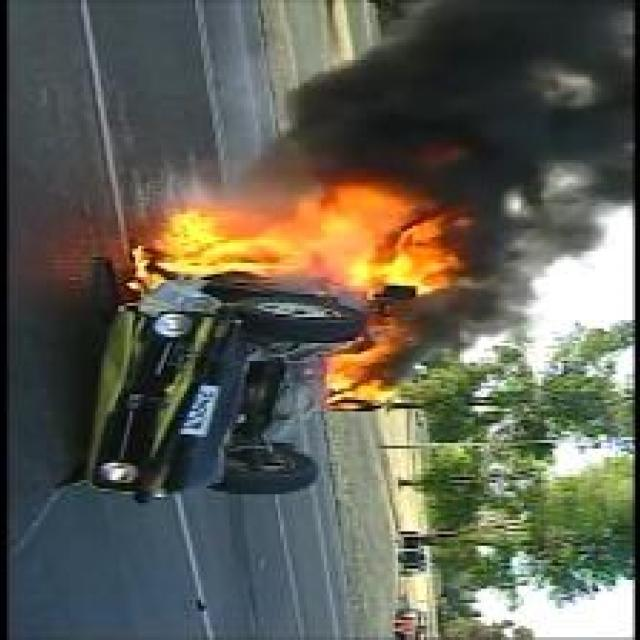Fire: (128, 182, 488, 298), (322, 313, 416, 407)
